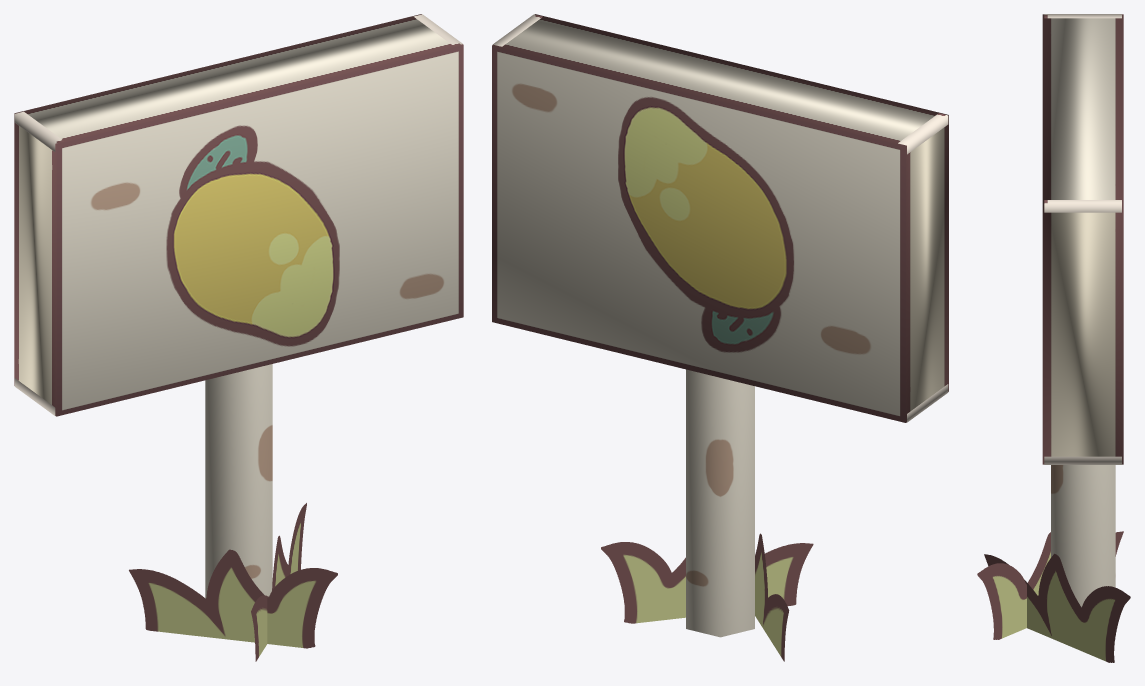
The model's file is Mesh_Home_BH_Farm_Brand_02_SM.fbx.
3 renders of one model, left to right at view 1: azimuth 30°, elevation 25°; view 2: azimuth 150°, elevation 25°; view 3: azimuth 270°, elevation 25°, orthographic. The views are drawn at different scales.
Visible parts, largest first — view 1: Mesh_Home_BH_Farm_Brand_02, Mesh_Home_BH_Farm_Brand_02_P; view 2: Mesh_Home_BH_Farm_Brand_02, Mesh_Home_BH_Farm_Brand_02_P; view 3: Mesh_Home_BH_Farm_Brand_02, Mesh_Home_BH_Farm_Brand_02_P.
Boxes of the visible parts, x1,y1,x2,y2 form: Mesh_Home_BH_Farm_Brand_02: (14, 14, 463, 598); Mesh_Home_BH_Farm_Brand_02_P: (129, 503, 337, 661); Mesh_Home_BH_Farm_Brand_02: (492, 14, 948, 637); Mesh_Home_BH_Farm_Brand_02_P: (601, 533, 813, 661); Mesh_Home_BH_Farm_Brand_02: (1042, 14, 1123, 607); Mesh_Home_BH_Farm_Brand_02_P: (977, 531, 1130, 662).
Bounding box in the file's own units: 45.19 × 57.49 × 15.37.
